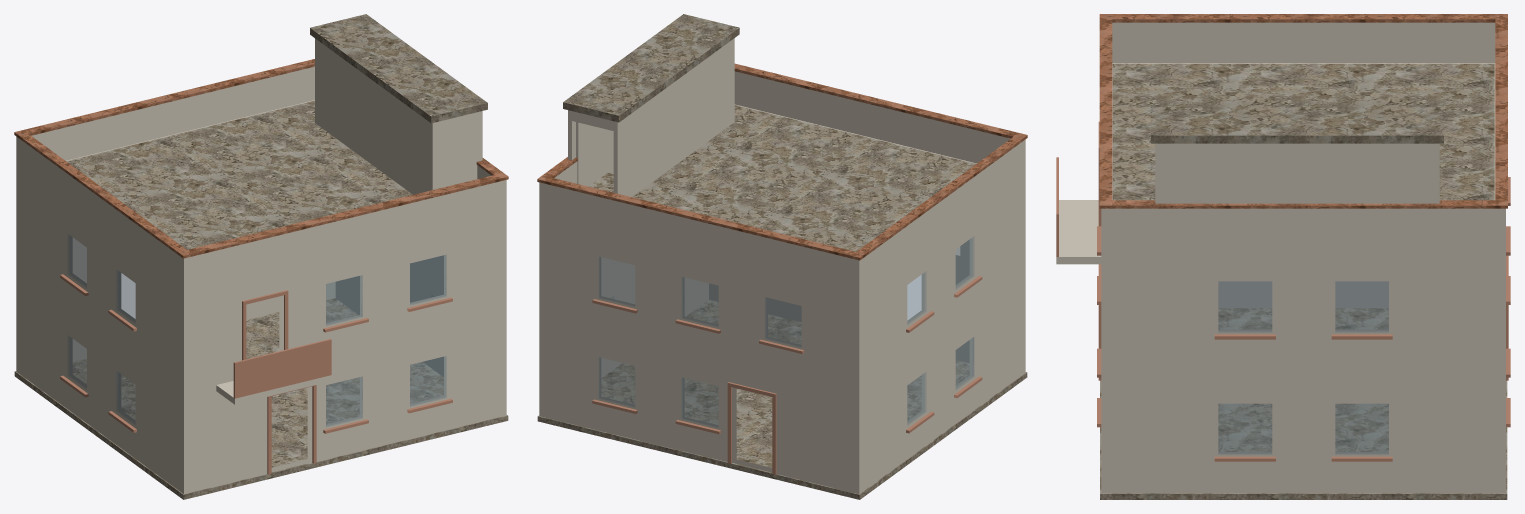
The model's file is bay-villa-cream.reveal-v1.lod1.glb.
3 views of the same model, side by side, from view 1: azimuth 30°, elevation 25°; view 2: azimuth 150°, elevation 25°; view 3: azimuth 270°, elevation 25° (orthographic). The views are drawn at different scales.
Parts seen in each view (by area): view 1: bay-villa-cream; view 2: bay-villa-cream; view 3: bay-villa-cream.
Boxes of the visible parts, x1,y1,x2,y2 form: bay-villa-cream: (14, 14, 508, 499); bay-villa-cream: (537, 14, 1027, 499); bay-villa-cream: (1056, 14, 1510, 499).
Bounding box in the file's own units: 10.2 × 8.96 × 10.1.
Materials: 3 (1 with a texture image).
